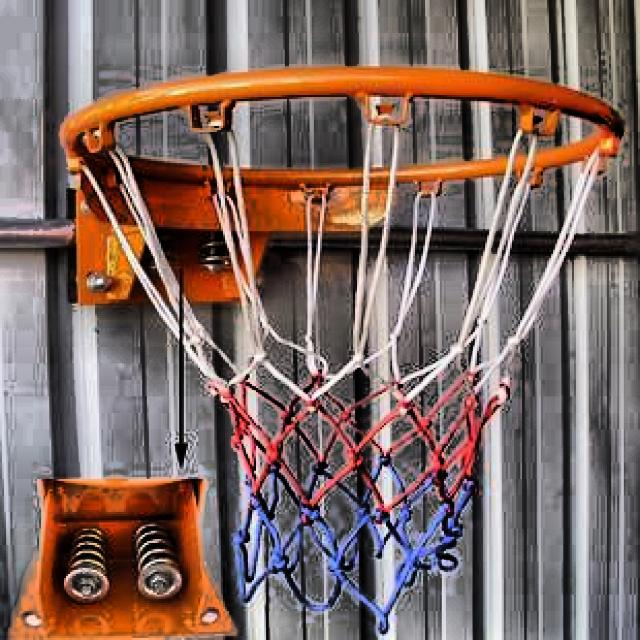rim: (64, 64, 628, 630)
